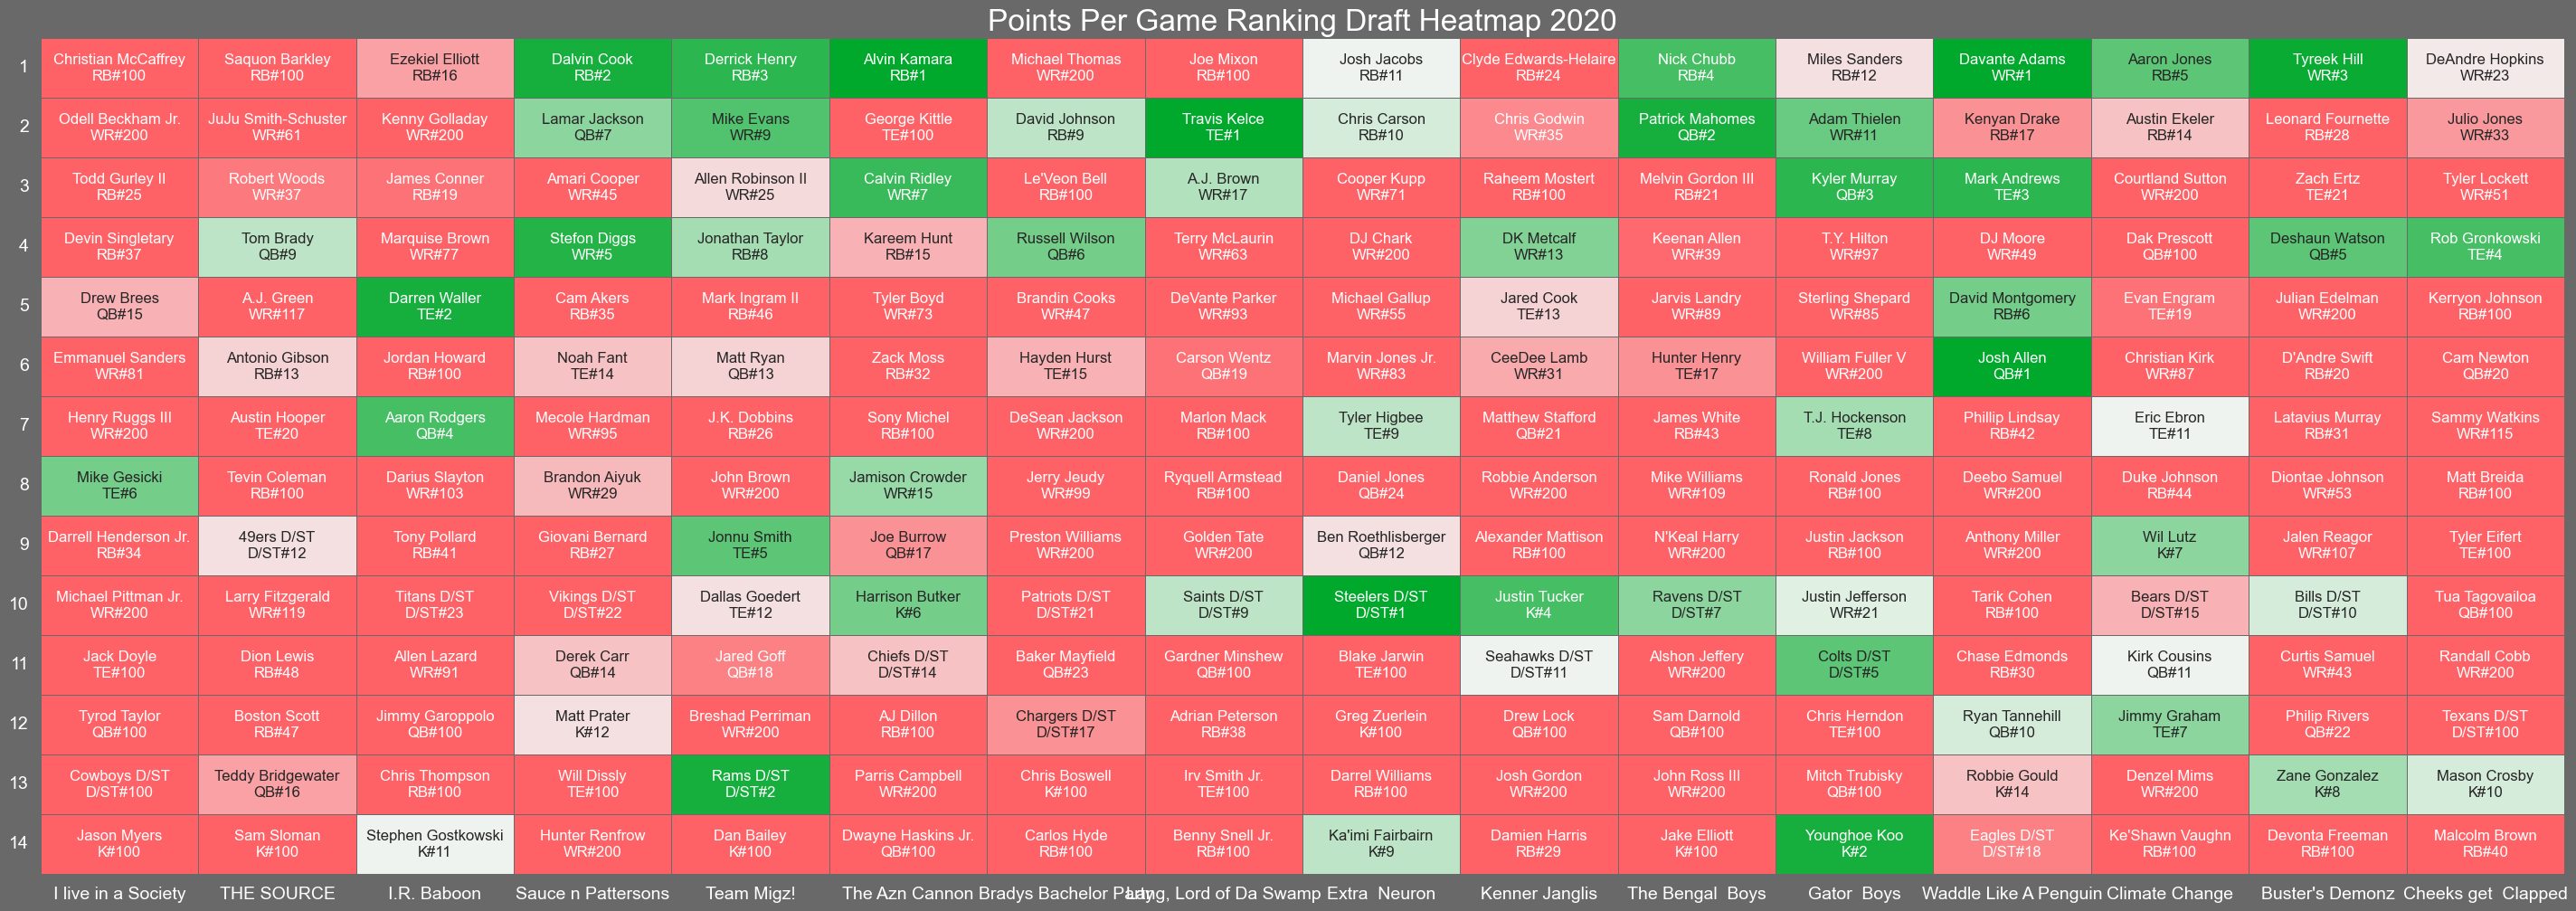

The dashboard page shown, as its layout file describes it:
{"tool":"powerbi","page":{"name":"Page 3","canvas":[1280,720],"ordinal":2},"visuals":[{"type":"pivotTable","fields":{"Rows":["Query1.round","Query1.playername"],"Columns":["Query1.pick"],"Values":["Sum(Query1.total)"]},"box":[0,0,1280,720],"z":1}]}

Visuals, with their boxes on the page's 1280x720 design canvas (x1, y1, x2, y2). These are canvas units, not pixel positions in the 2576x911 screenshot, which may show the page scaled, cropped or inside an application window:
pivotTable - Query1.round x Query1.playername: box(0, 0, 1280, 720)
